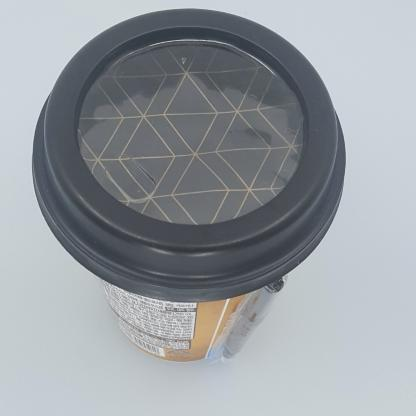---------250ML: (31, 8, 346, 365)
